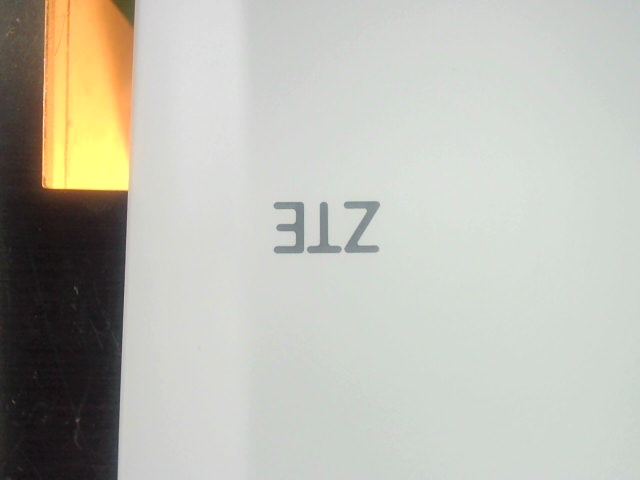AO_ZTESmall: (256, 188, 390, 262)
